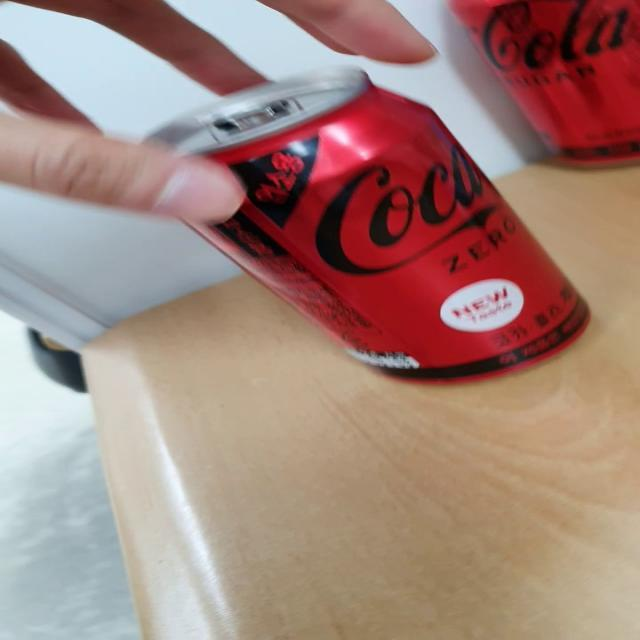coca-cola: (81, 58, 605, 390)
